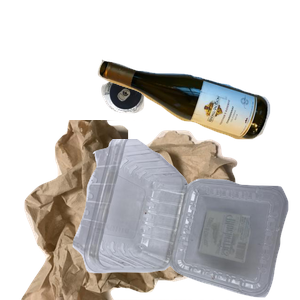glass: (95, 57, 300, 189)
metal: (99, 70, 236, 176)
plastic: (70, 139, 300, 300)
trash: (19, 120, 249, 300)
